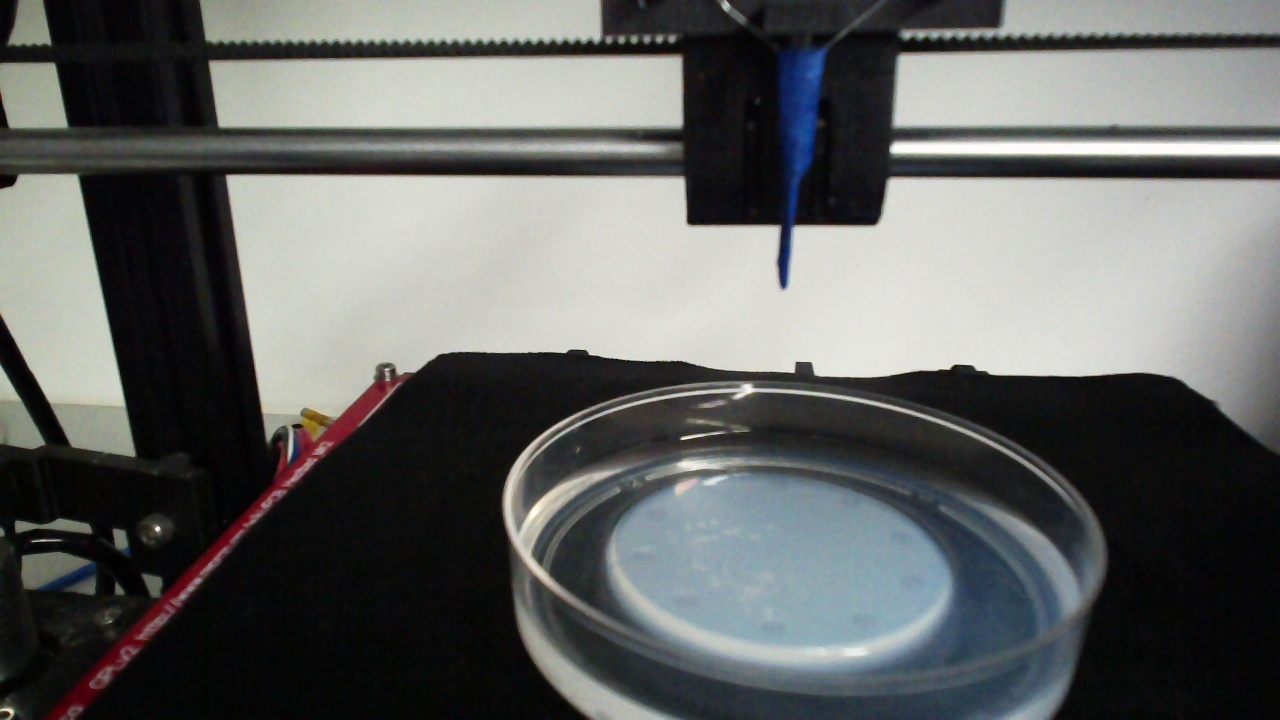groove: (849, 609, 880, 631), (671, 588, 700, 609), (887, 527, 915, 548), (628, 543, 657, 562), (759, 619, 788, 638), (898, 572, 926, 591), (838, 491, 863, 510), (645, 504, 670, 523)
needle: (778, 53, 827, 289)
